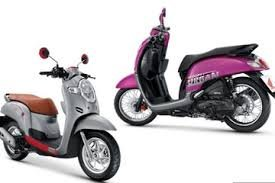motor: (115, 8, 275, 136), (1, 64, 121, 181)
